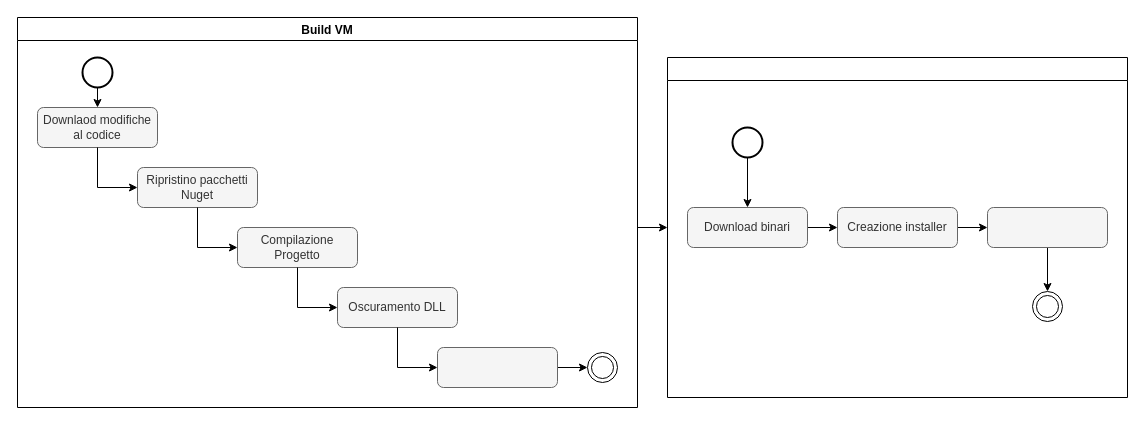
This 1145x425 diagram has some shape labels left out. Here are the shapes that lost their labels. From the top down, the box of each, then its label:
(666, 56, 1128, 398): Deploy VM
(986, 206, 1108, 248): Salvataggio installer
(436, 346, 558, 388): Upload binari
